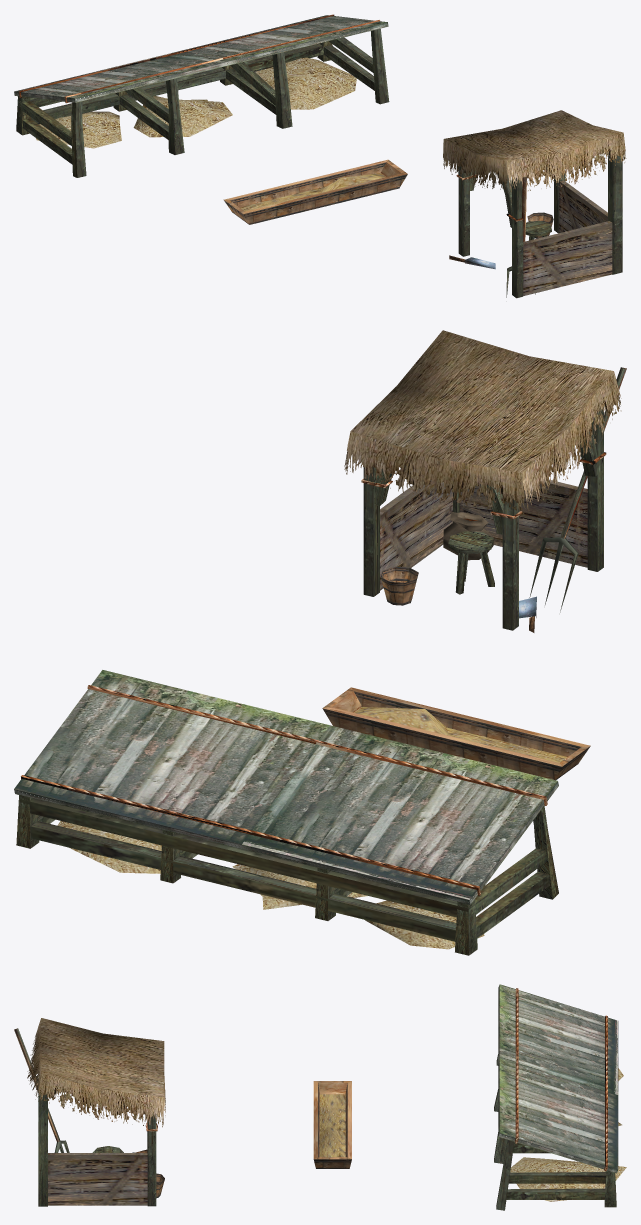
File: building_farm_pigs.glb
3 renders of one model, top to bottom at view 1: azimuth 30°, elevation 25°; view 2: azimuth 150°, elevation 25°; view 3: azimuth 270°, elevation 25°, orthographic. The views are drawn at different scales.
Parts seen in each view (by area): view 1: building_farm_pigs; view 2: building_farm_pigs; view 3: building_farm_pigs.
Boxes of the visible parts, <box> form: building_farm_pigs: <box>14,14,626,298</box>; building_farm_pigs: <box>14,330,626,955</box>; building_farm_pigs: <box>14,984,626,1210</box>.
Bounding box in the file's own units: 6.36 × 3.01 × 10.8.
12 materials, 12 textured.
